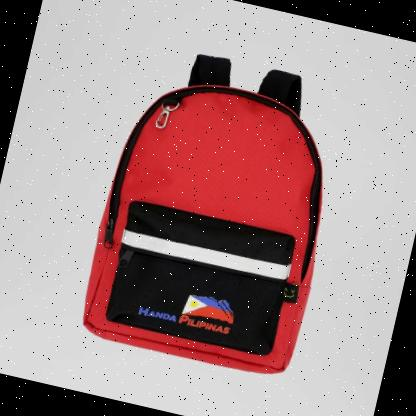bag: (65, 28, 362, 387)
